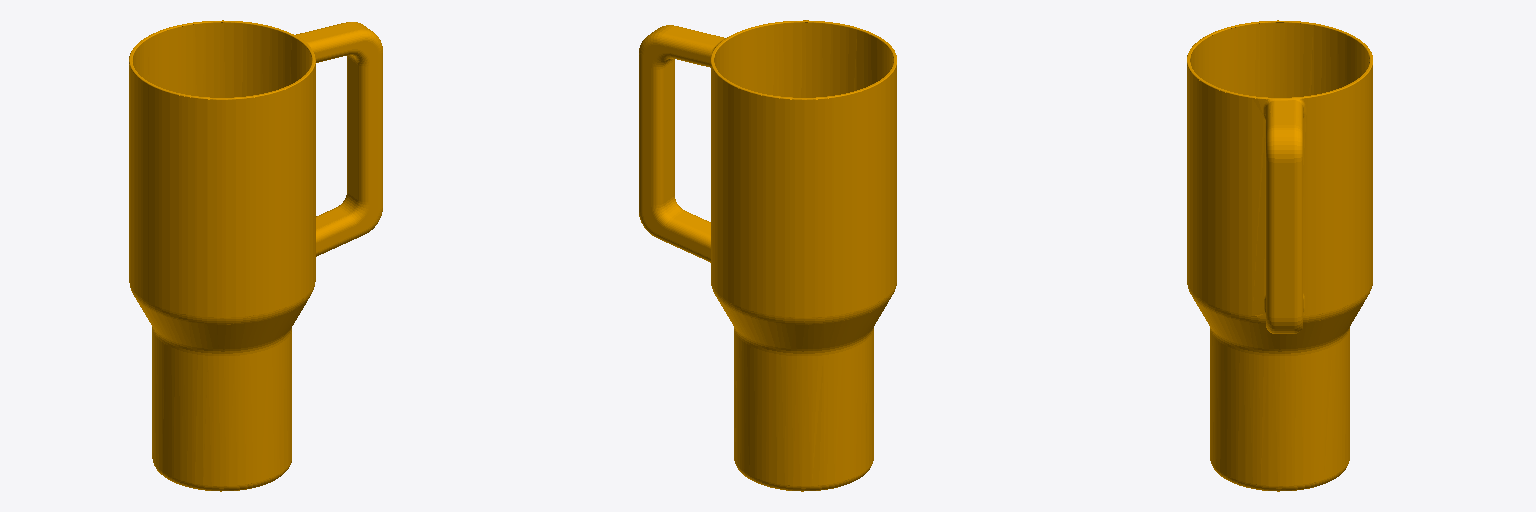
URDF robot description (tumbler_body):
<?xml version="1.0"?>
<!-- 자동 생성: tools/make_screw_asset.py (tumbler.urdf 와 같은 메시/좌표계)
     나사 구속 없는 정적 지지체. 캡은 별도 자산으로 이 위에 놓인다.
     주의: 축대칭이 아니다. 손잡이가 한쪽으로 뻗어 있고(x 97mm 까지),
     상단 칼라가 캡 옆면 아래쪽을 가린다. 손목 prior 는 이 형상을 모른다. -->
<robot name="tumbler_body">
  <link name="body">
    <visual>
      <geometry><mesh filename="meshes/body_visual.obj"/></geometry>
    </visual>
    <collision>
      <geometry><mesh filename="meshes/body_collision.obj"/></geometry>
    </collision>
    <inertial>
      <mass value="0.30"/>
      <origin xyz="0.020946 0.000643 0.134835"/>
      <inertia ixx="0.00167630" iyy="0.00206606" izz="0.00082941" ixy="0" ixz="0" iyz="0"/>
    </inertial>
  </link>
  <gazebo reference="body"><mu1>2.0</mu1><mu2>2.0</mu2></gazebo>
</robot>

--- What the picture shows (computed from the rendered views, not written in the file) ---
The picture shows the robot from 3 angles, left to right: view 1: azimuth 30°, elevation 25°; view 2: azimuth 150°, elevation 25°; view 3: azimuth 270°, elevation 25°; orthographic projection.
Robot: tumbler_body — 1 links, 0 joints (none); root link body; default pose: all joints at 0.
Links seen in each view (by area): view 1: body; view 2: body; view 3: body.
Link boxes in pixels (<box>): body: <box>129,20,382,491</box>; body: <box>639,20,896,491</box>; body: <box>1187,20,1372,491</box>.
Bounding box of the posed robot: 0.1471 × 0.1 × 0.2393 m (x, y, z).
Meshes: 1 distinct files referenced, 1 mesh visuals loaded (1 OBJ).
